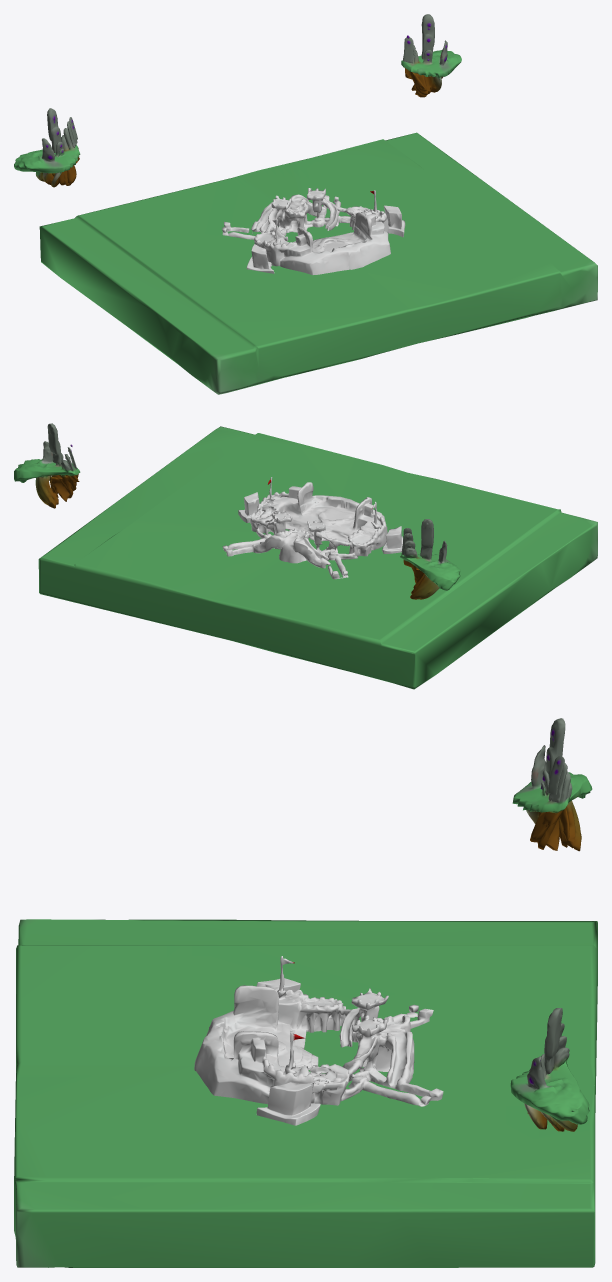
3 views of the same model, one above another, from view 1: azimuth 30°, elevation 25°; view 2: azimuth 150°, elevation 25°; view 3: azimuth 270°, elevation 25° (orthographic). The views are drawn at different scales.
Visible parts, largest first — view 1: Layer_7, Layer_1; view 2: Layer_7, Layer_1; view 3: Layer_7, Layer_1.
Part boxes in pixels (x1=…): Layer_7: x1=39, y1=132, x2=597, y2=394; Layer_1: x1=14, y1=14, x2=461, y2=274; Layer_7: x1=38, y1=426, x2=597, y2=689; Layer_1: x1=14, y1=423, x2=460, y2=599; Layer_7: x1=14, y1=919, x2=597, y2=1267; Layer_1: x1=194, y1=718, x2=592, y2=1131.
Bounding box in the file's own units: 1.56 × 1.12 × 0.5594.
